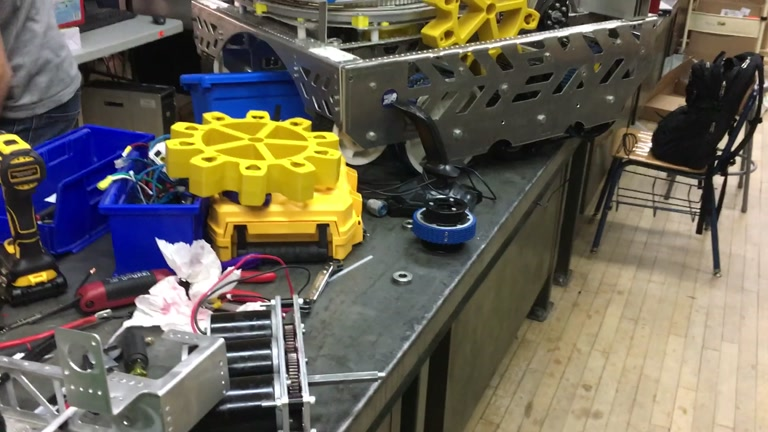gear: (163, 107, 341, 206), (422, 1, 541, 70)
